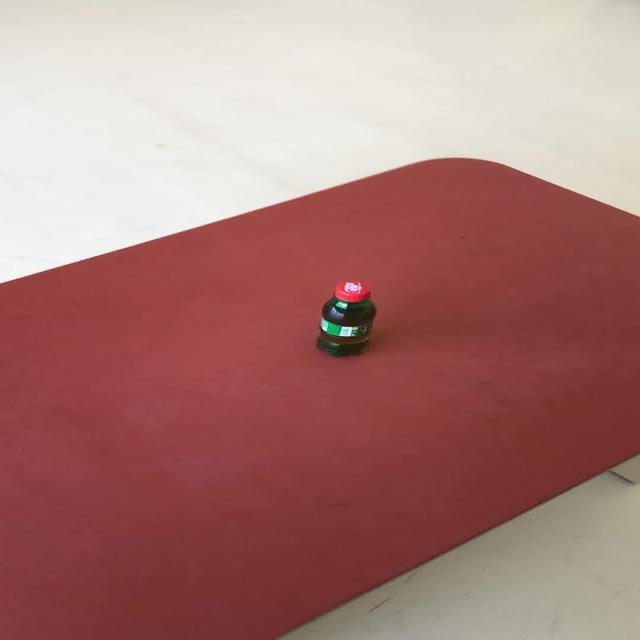guarana: (314, 280, 376, 355)
